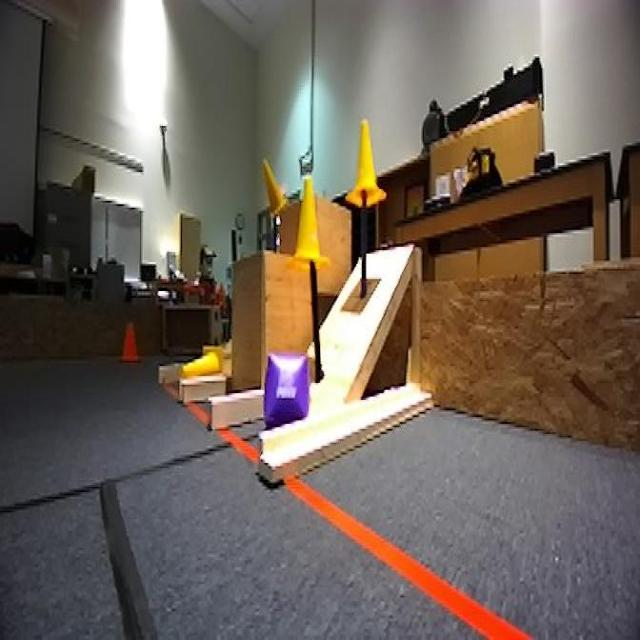frc_cone: (286, 172, 332, 274), (346, 118, 386, 210), (180, 341, 226, 386), (263, 158, 288, 218)
frc_cube: (262, 350, 308, 430)
